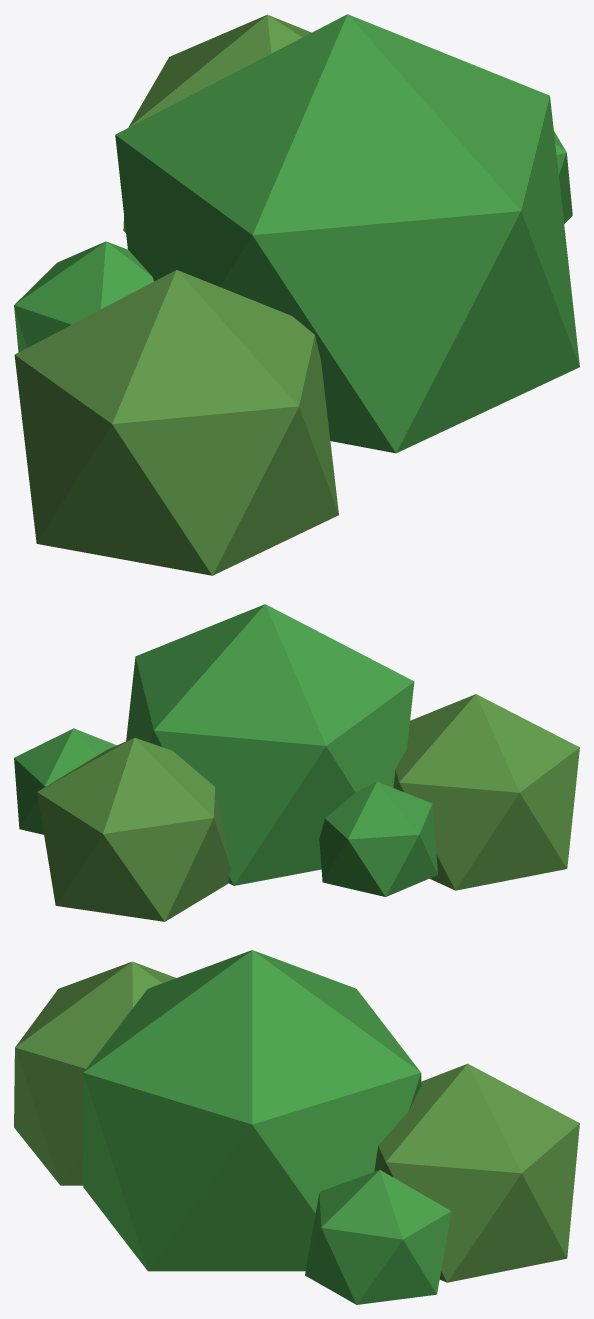
File: MediumBush.fbx
3 views of the same model, one above another, from view 1: azimuth 30°, elevation 25°; view 2: azimuth 150°, elevation 25°; view 3: azimuth 270°, elevation 25° (orthographic). The views are drawn at different scales.
Visible parts, largest first — view 1: Icosphere, Icosphere.002, Icosphere.003, Icosphere.001, Icosphere.004; view 2: Icosphere, Icosphere.001, Icosphere.002, Icosphere.003, Icosphere.004; view 3: Icosphere, Icosphere.001, Icosphere.002, Icosphere.004.
Boxes of the visible parts, x1=… form: Icosphere: x1=115, y1=14, x2=579, y2=453; Icosphere.002: x1=14, y1=270, x2=338, y2=575; Icosphere.003: x1=14, y1=241, x2=153, y2=352; Icosphere.001: x1=123, y1=14, x2=311, y2=232; Icosphere.004: x1=554, y1=131, x2=572, y2=223; Icosphere: x1=126, y1=604, x2=414, y2=885; Icosphere.001: x1=37, y1=737, x2=230, y2=921; Icosphere.002: x1=393, y1=694, x2=579, y2=890; Icosphere.003: x1=319, y1=781, x2=437, y2=896; Icosphere.004: x1=14, y1=728, x2=116, y2=834; Icosphere: x1=83, y1=950, x2=421, y2=1271; Icosphere.001: x1=374, y1=1063, x2=579, y2=1282; Icosphere.002: x1=14, y1=961, x2=175, y2=1185; Icosphere.004: x1=305, y1=1170, x2=451, y2=1304.
Bounding box in the file's own units: 303 × 166 × 285.
